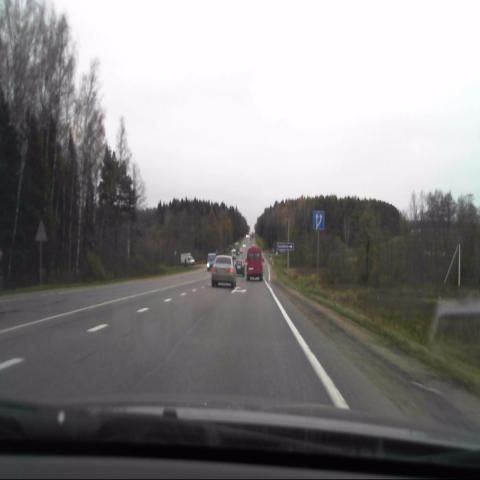5_15_3: (314, 210, 324, 230)
